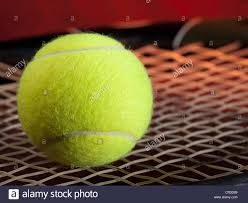tennis_ball: (16, 31, 153, 167)
